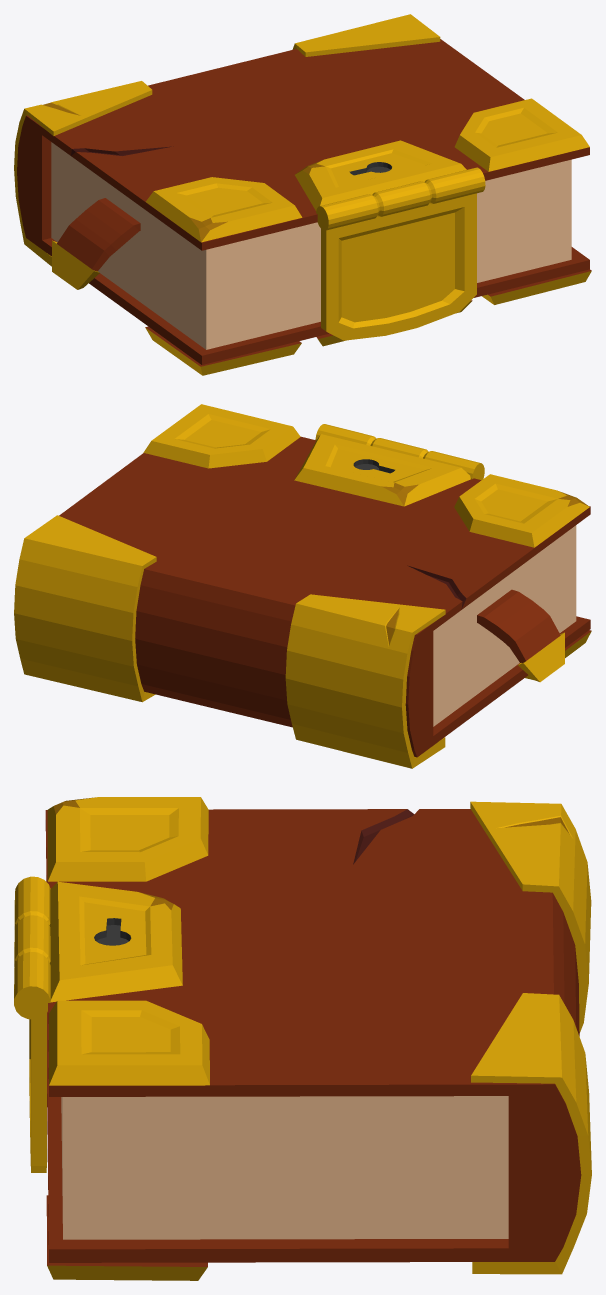
The model's file is Book_Bound_Brown.fbx.
The picture shows the model from 3 angles, top to bottom: view 1: azimuth 30°, elevation 25°; view 2: azimuth 150°, elevation 25°; view 3: azimuth 270°, elevation 25°; orthographic projection. The views are drawn at different scales.
Parts seen in each view (by area): view 1: Book_Bound_Purple; view 2: Book_Bound_Purple; view 3: Book_Bound_Purple.
Part boxes in pixels (x1=…): Book_Bound_Purple: x1=14, y1=14, x2=591, y2=375; Book_Bound_Purple: x1=14, y1=404, x2=591, y2=768; Book_Bound_Purple: x1=14, y1=797, x2=591, y2=1280.
Size of the model in its own units: 54.29 by 17.47 by 42.53.
